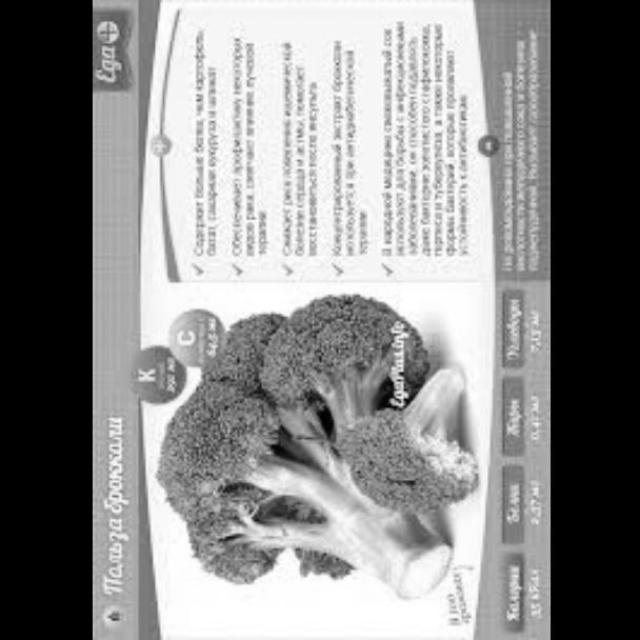broccoli: (150, 273, 487, 612), (338, 342, 476, 511)
